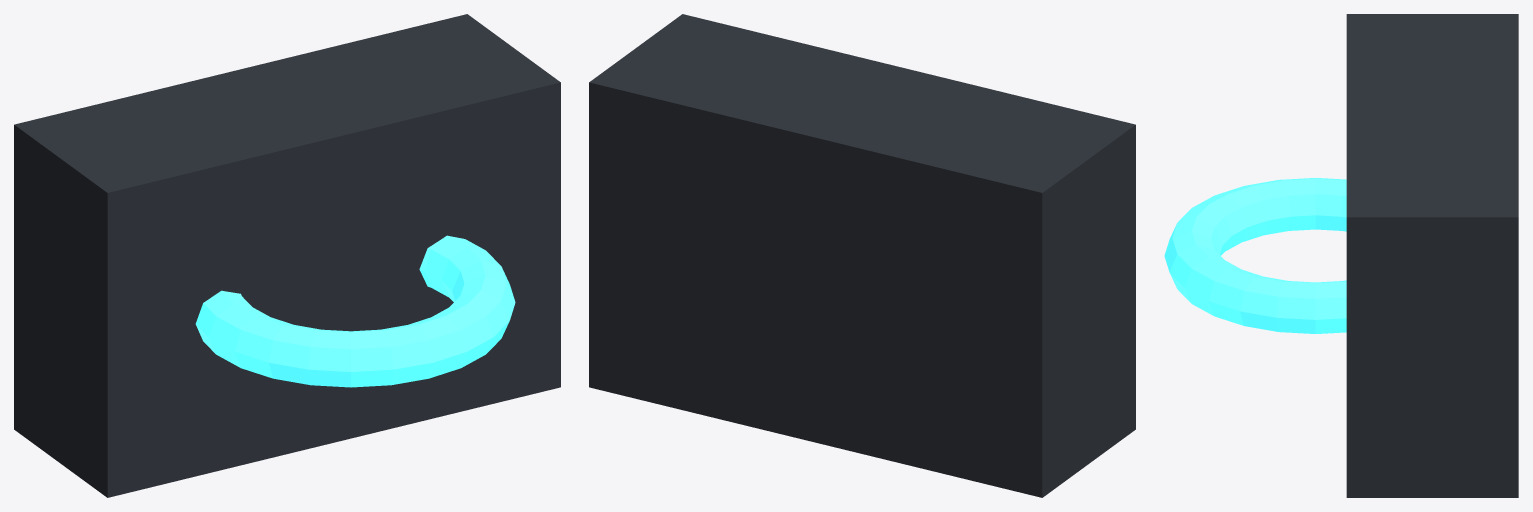
File: neck_port.glb
The picture shows the model from 3 angles, left to right: view 1: azimuth 30°, elevation 25°; view 2: azimuth 150°, elevation 25°; view 3: azimuth 270°, elevation 25°; orthographic projection. The views are drawn at different scales.
Parts seen in each view (by area): view 1: part_000, part_001; view 2: part_000; view 3: part_000, part_001.
Boxes of the visible parts, bbox=[...] form: part_000: bbox=[14, 14, 560, 497]; part_001: bbox=[195, 235, 515, 387]; part_000: bbox=[589, 14, 1135, 497]; part_000: bbox=[1346, 14, 1518, 497]; part_001: bbox=[1164, 178, 1346, 333].
Bounding box in the file's own units: 0.07 × 0.045 × 0.0515.
